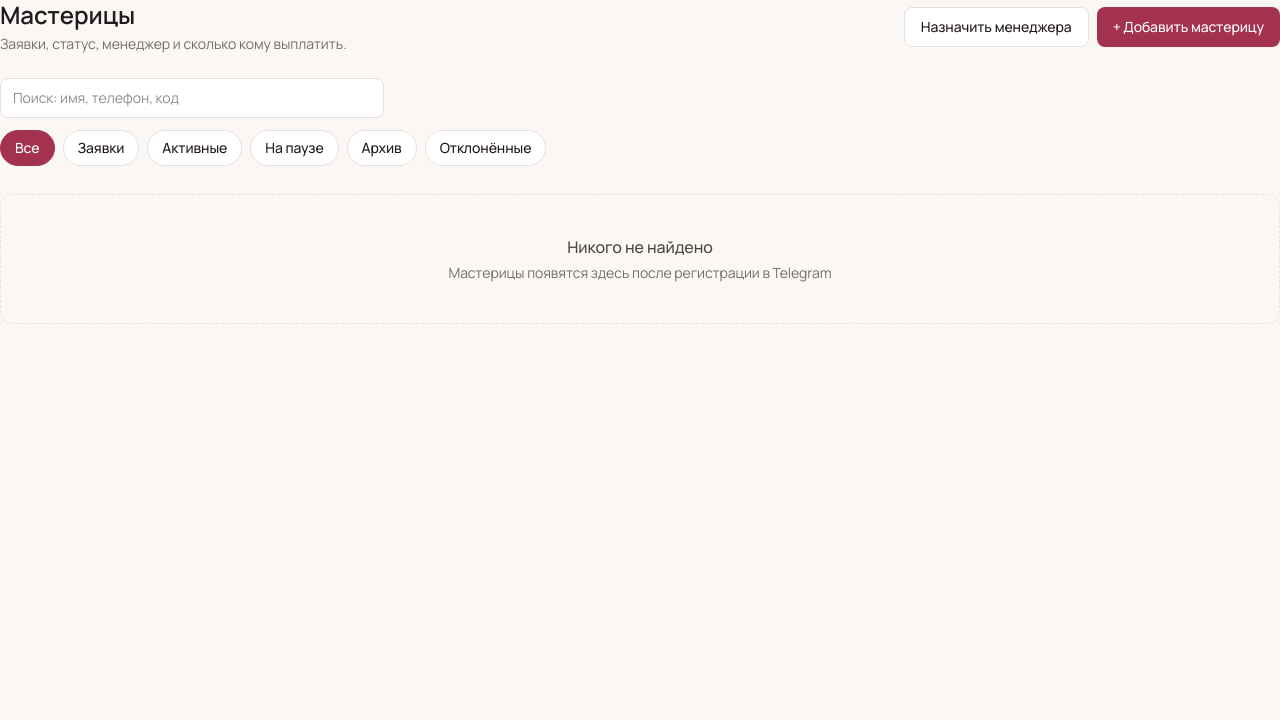
Test: «Мастерицы»: add by invitation link, delete for good › «+ Добавить мастерицу» -> name + phone -> a Telegram link to copy or share
Step 1. Click the button "+ Добавить мастерицу" → (1188, 27), box [1097,7,1279,47]
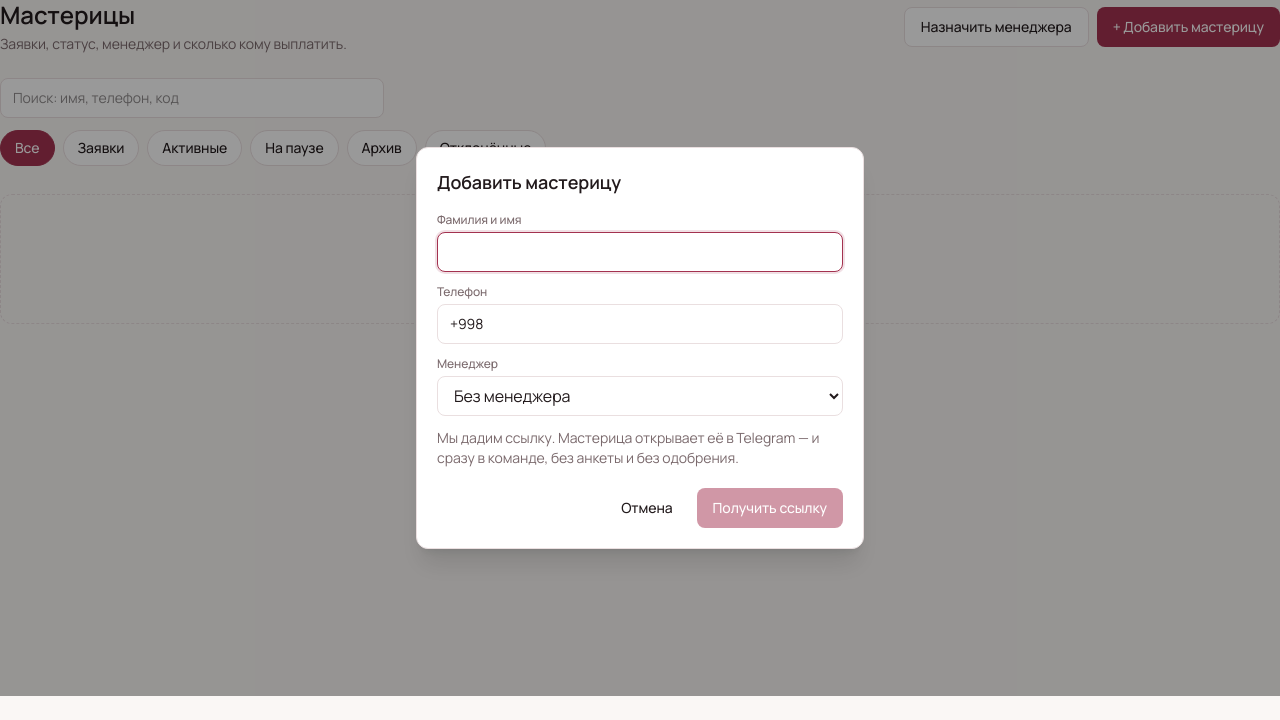
Step 2. Type "Нигора Алиева" into the field labelled "Фамилия и имя" → (640, 252), box [437,232,843,272]
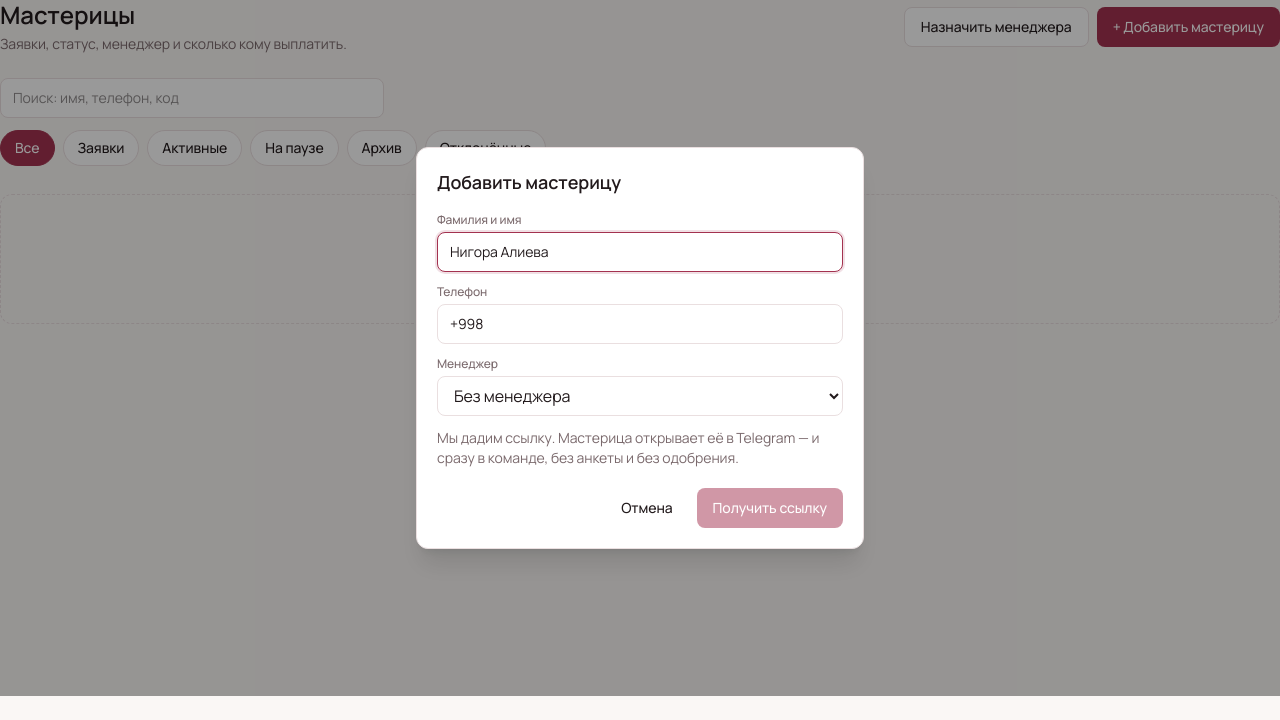
Step 3. Replace the text in the field labelled "Телефон" with "+998901234567" → (640, 324), box [437,304,843,344]
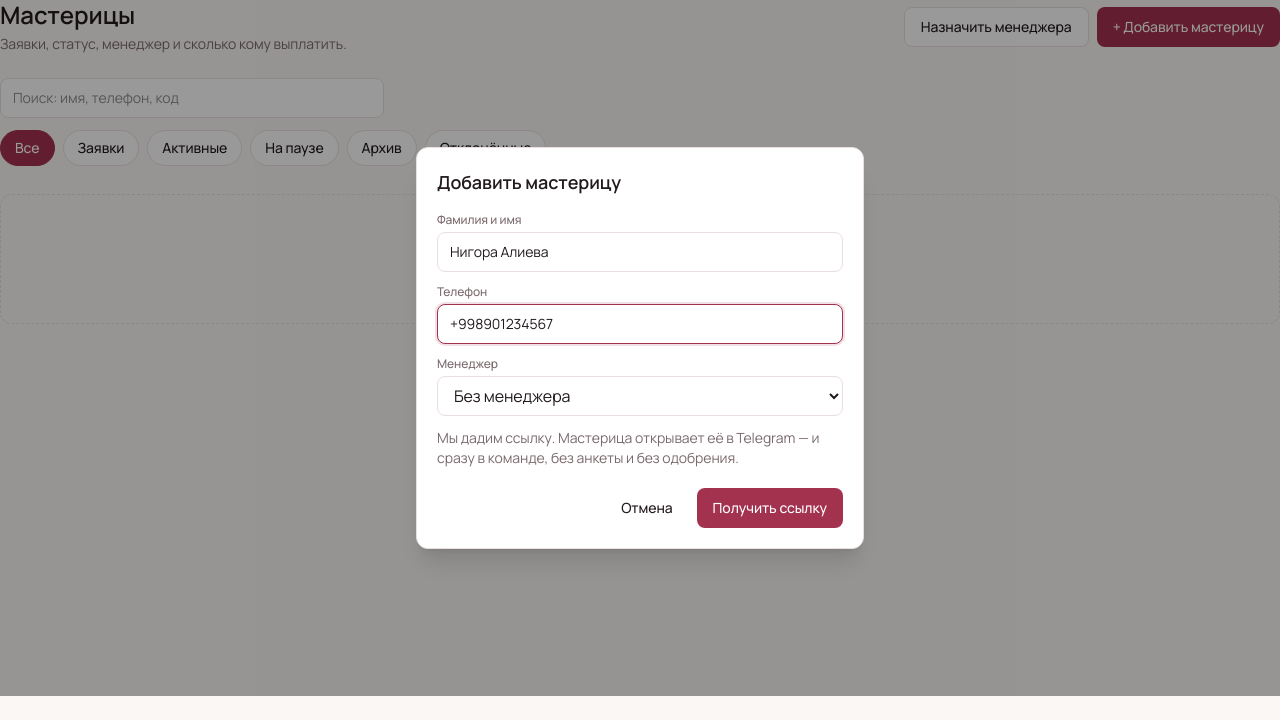
Step 4. Click the button "Получить ссылку" → (770, 508), box [697,488,843,528]
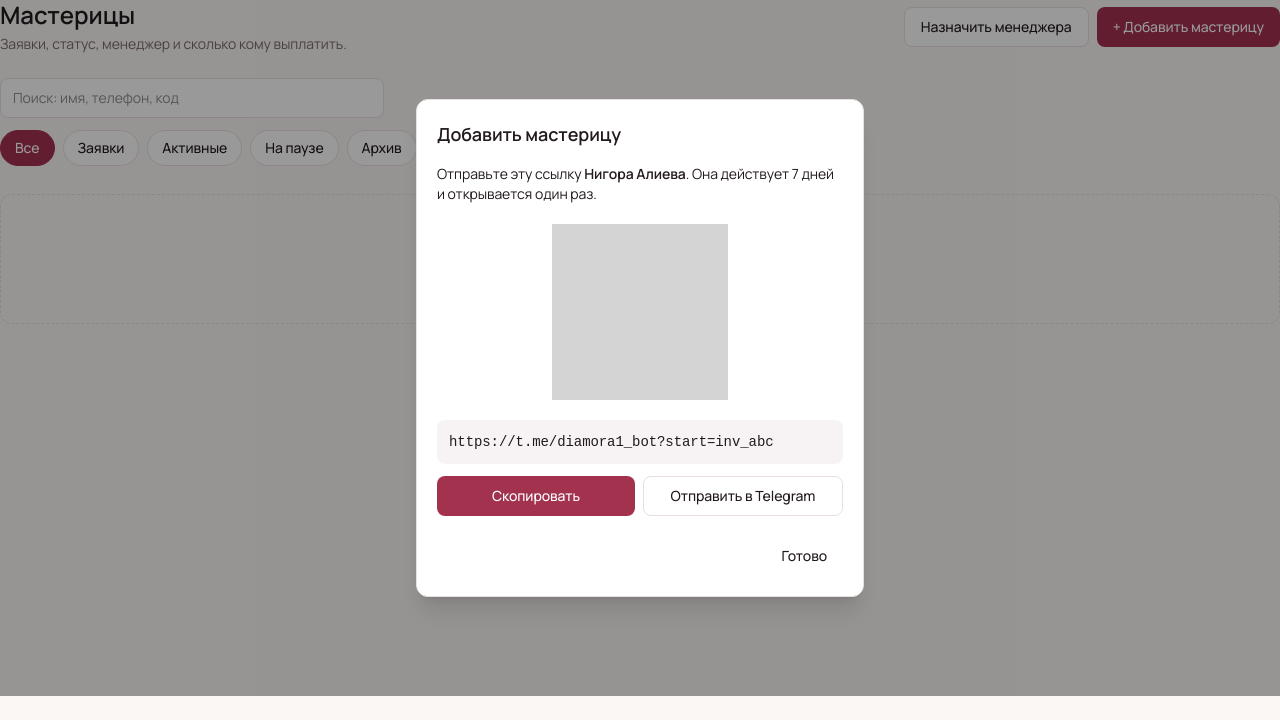
Check: the text "https://t.me/diamora1_bot?start=inv_abc" is shown, box [437,420,843,464]
Check: the button "Скопировать" is shown, box [437,476,635,516]
Check: the button "Отправить в Telegram" is shown, box [643,476,843,516]
